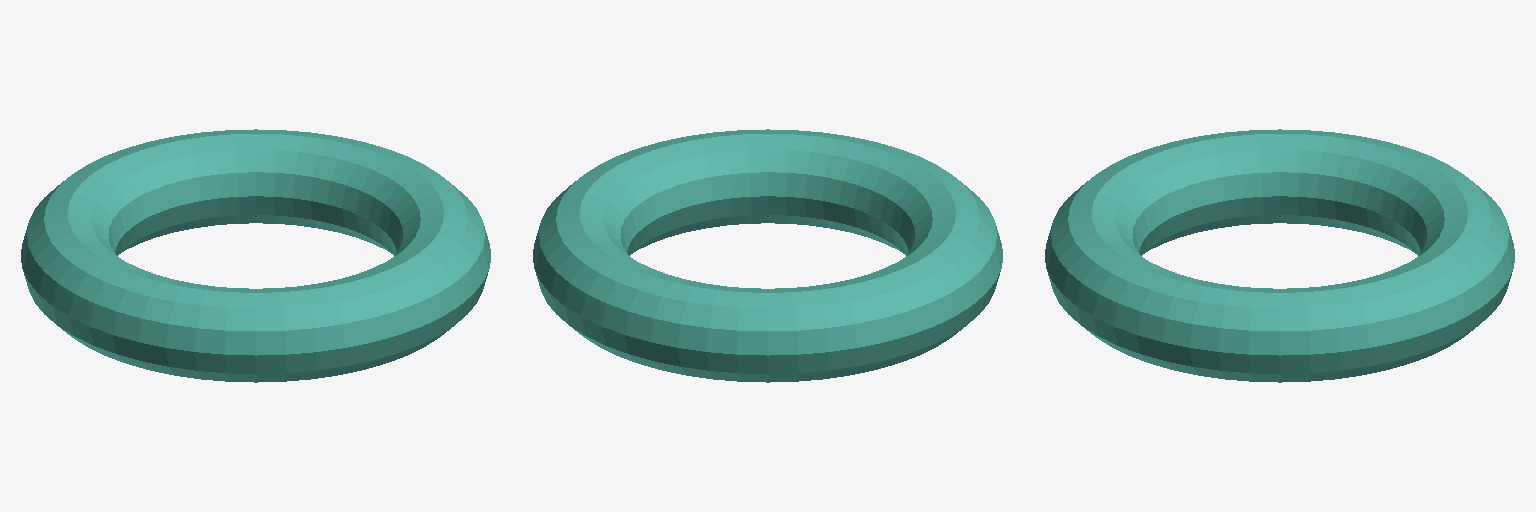
Rendered from climber.obj.
3 renders of one model, left to right at view 1: azimuth 30°, elevation 25°; view 2: azimuth 150°, elevation 25°; view 3: azimuth 270°, elevation 25°, orthographic.
Parts seen in each view (by area): view 1: Torus; view 2: Torus; view 3: Torus.
Part boxes in pixels (x1,y1,x2,y2): Torus: (21,129,490,382); Torus: (533,129,1002,382); Torus: (1045,129,1514,382).
Size of the model in its own units: 1.25 by 0.25 by 1.25.